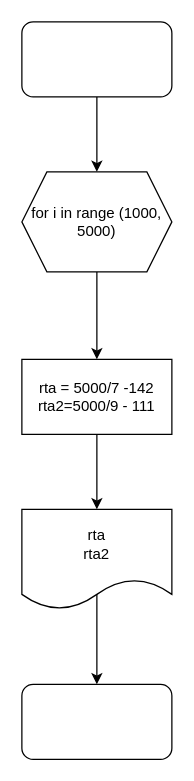
The diagram is 194 pixels wide and 781 high, and some of its shapes have lost their labels. Here are the shapes that lost their labels. From the top down, the centre of each, then its label:
At (96,59): "INICIO".
At (96,721): "Fin".
